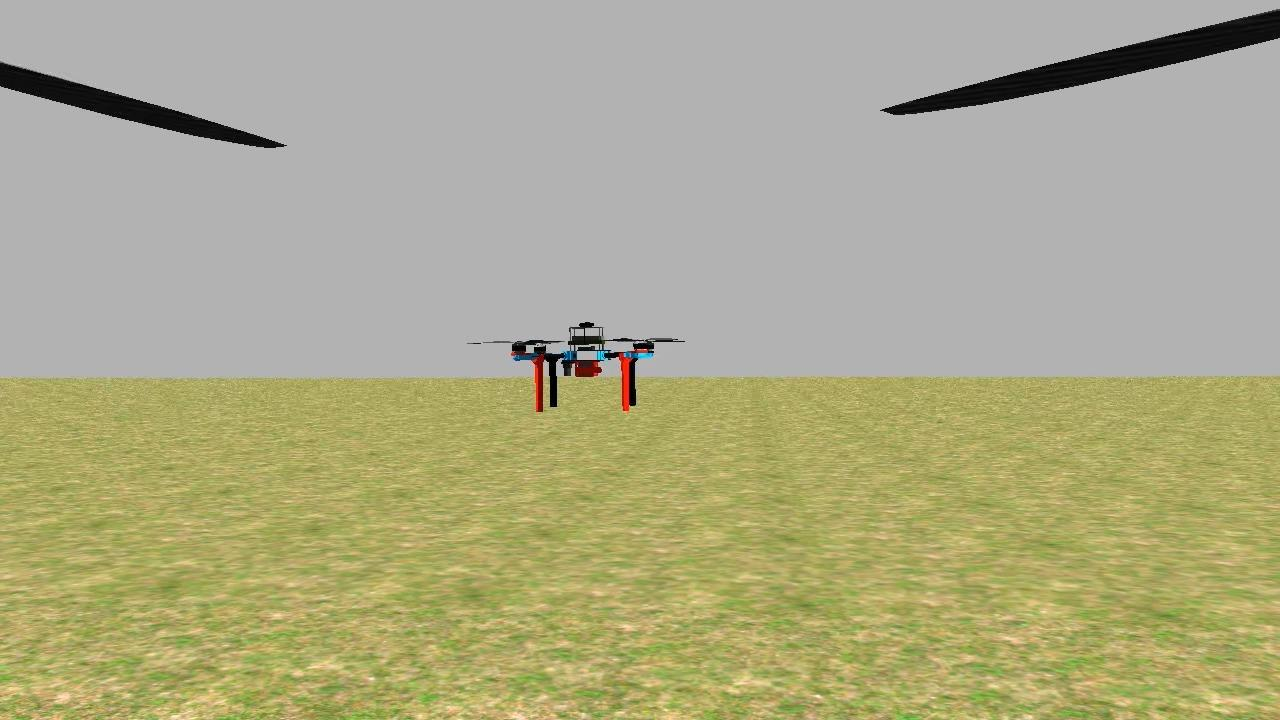UAV: (497, 305, 665, 420)
